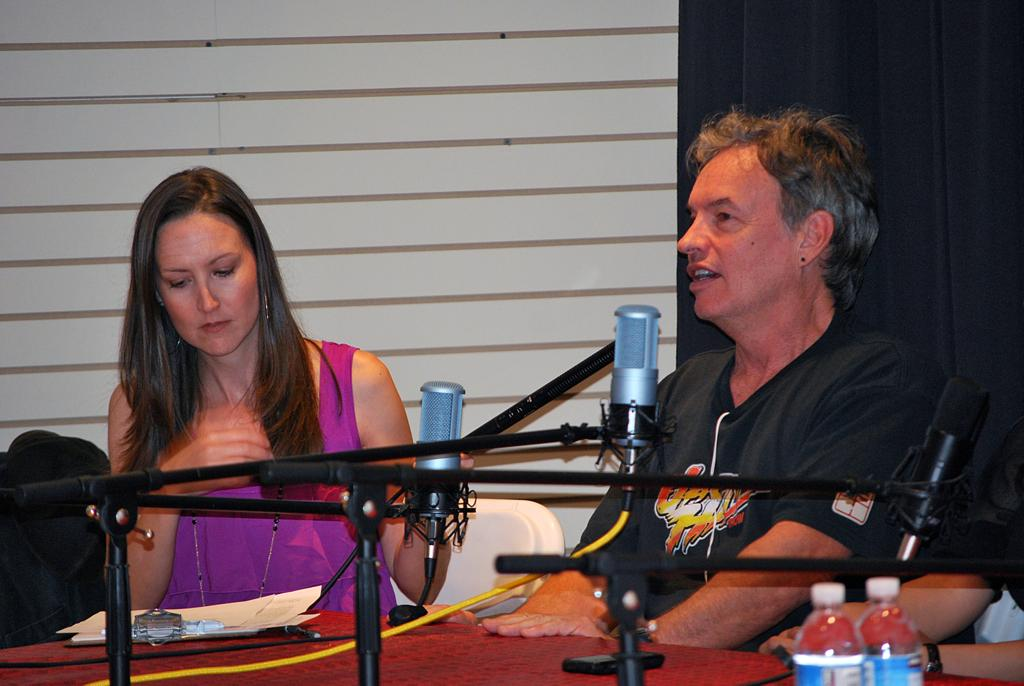face: (680, 144, 792, 318), (152, 202, 262, 354)
